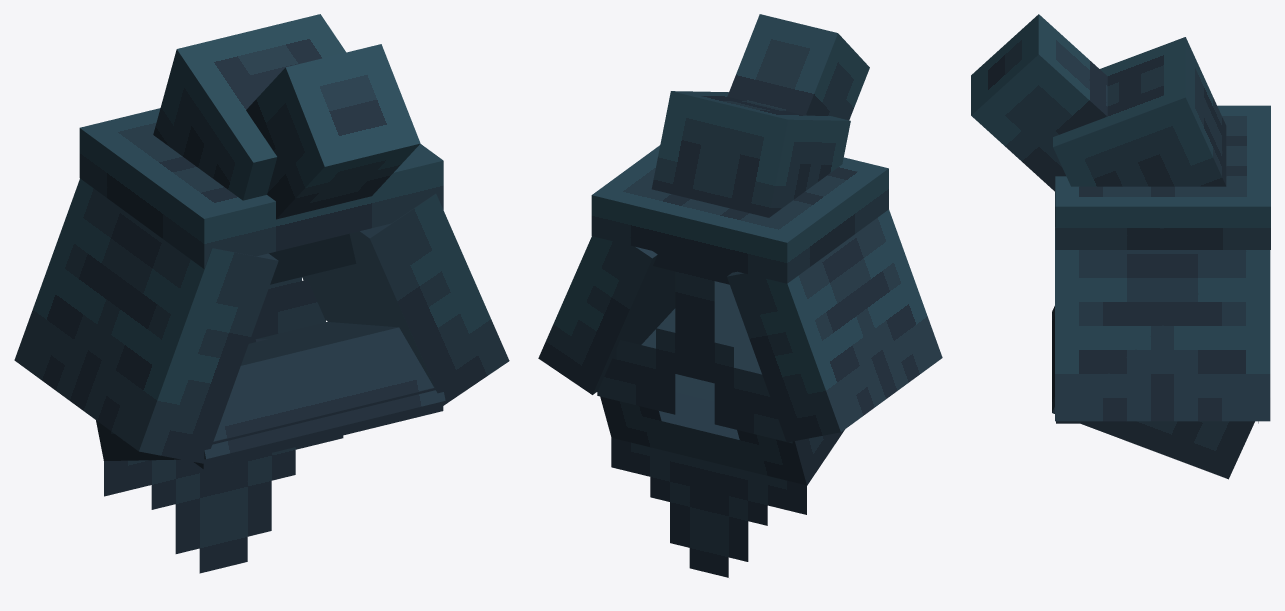
Rendered from executioner.obj.
The picture shows the model from 3 angles, left to right: view 1: azimuth 30°, elevation 25°; view 2: azimuth 150°, elevation 25°; view 3: azimuth 270°, elevation 25°; orthographic projection. The views are drawn at different scales.
Parts seen in each view (by area): view 1: executioner_part_3, executioner_part_0, executioner_part_1, executioner_part_2, executioner_part_6, executioner_part_4, executioner_part_7, executioner_part_9, executioner_part_5; view 2: executioner_part_3, executioner_part_0, executioner_part_4, executioner_part_5, executioner_part_1, executioner_part_2, executioner_part_7, executioner_part_6; view 3: executioner_part_2, executioner_part_4, executioner_part_0, executioner_part_6, executioner_part_1.
Part boxes in pixels (x1,y1,x2,y2): executioner_part_3: [14, 178, 278, 463]; executioner_part_0: [79, 108, 443, 268]; executioner_part_1: [96, 321, 445, 460]; executioner_part_2: [302, 193, 509, 405]; executioner_part_6: [246, 44, 420, 219]; executioner_part_4: [153, 14, 356, 284]; executioner_part_7: [104, 435, 343, 573]; executioner_part_9: [194, 387, 443, 469]; executioner_part_5: [249, 277, 325, 343]; executioner_part_3: [727, 209, 942, 442]; executioner_part_0: [591, 145, 888, 283]; executioner_part_4: [651, 91, 850, 217]; executioner_part_5: [597, 251, 792, 443]; executioner_part_1: [600, 281, 844, 485]; executioner_part_2: [538, 236, 675, 394]; executioner_part_7: [611, 438, 806, 577]; executioner_part_6: [727, 14, 869, 120]; executioner_part_2: [1055, 227, 1270, 421]; executioner_part_4: [1053, 37, 1226, 186]; executioner_part_0: [1055, 105, 1270, 249]; executioner_part_6: [971, 14, 1107, 191]; executioner_part_1: [1052, 306, 1254, 479].
Size of the model in its own units: 0.9668 by 1.48 by 0.783.
Materials: 1 (1 with a texture image).
